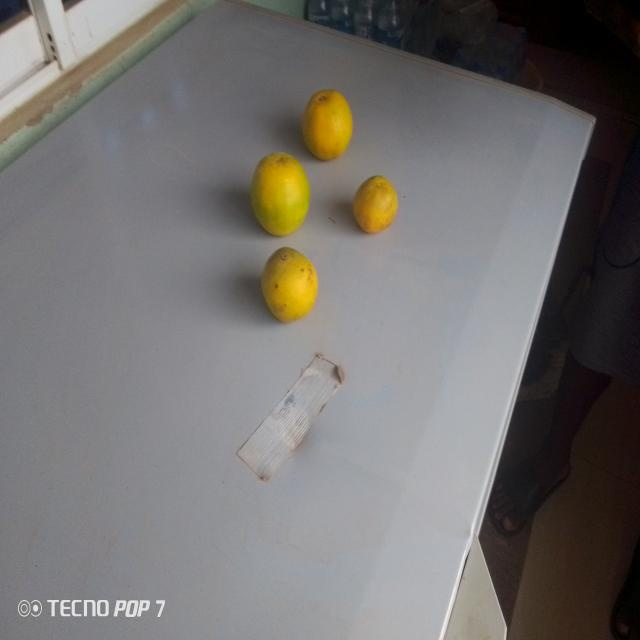agrume: (253, 242, 331, 344), (277, 81, 361, 163), (250, 151, 322, 245), (347, 159, 400, 253)
